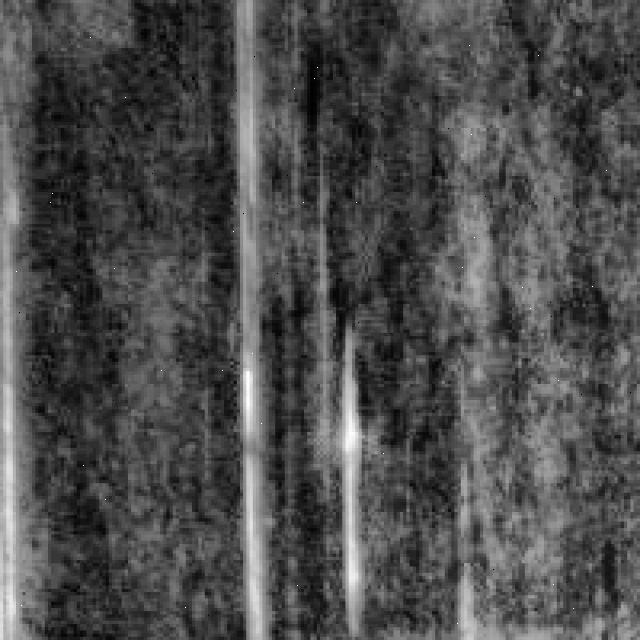Inclusion: (236, 336, 278, 634), (336, 342, 378, 630)
